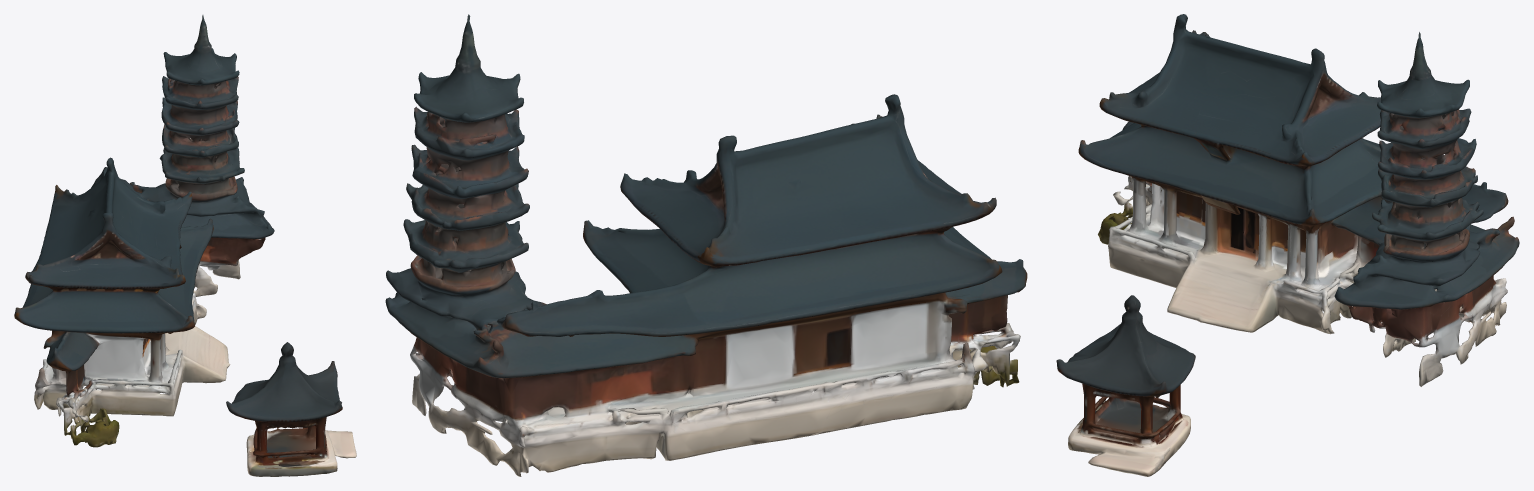
3 renders of one model, left to right at view 1: azimuth 30°, elevation 25°; view 2: azimuth 150°, elevation 25°; view 3: azimuth 270°, elevation 25°, orthographic. The views are drawn at different scales.
Parts seen in each view (by area): view 1: material.001; view 2: material.001; view 3: material.001.
Part boxes in pixels (x1,y1,x2,y2): material.001: (14,15,356,476); material.001: (385,14,1027,476); material.001: (1056,14,1519,476).
Bounding box in the file's own units: 0.7687 × 0.7928 × 0.7843.
1 material, 1 textured.
